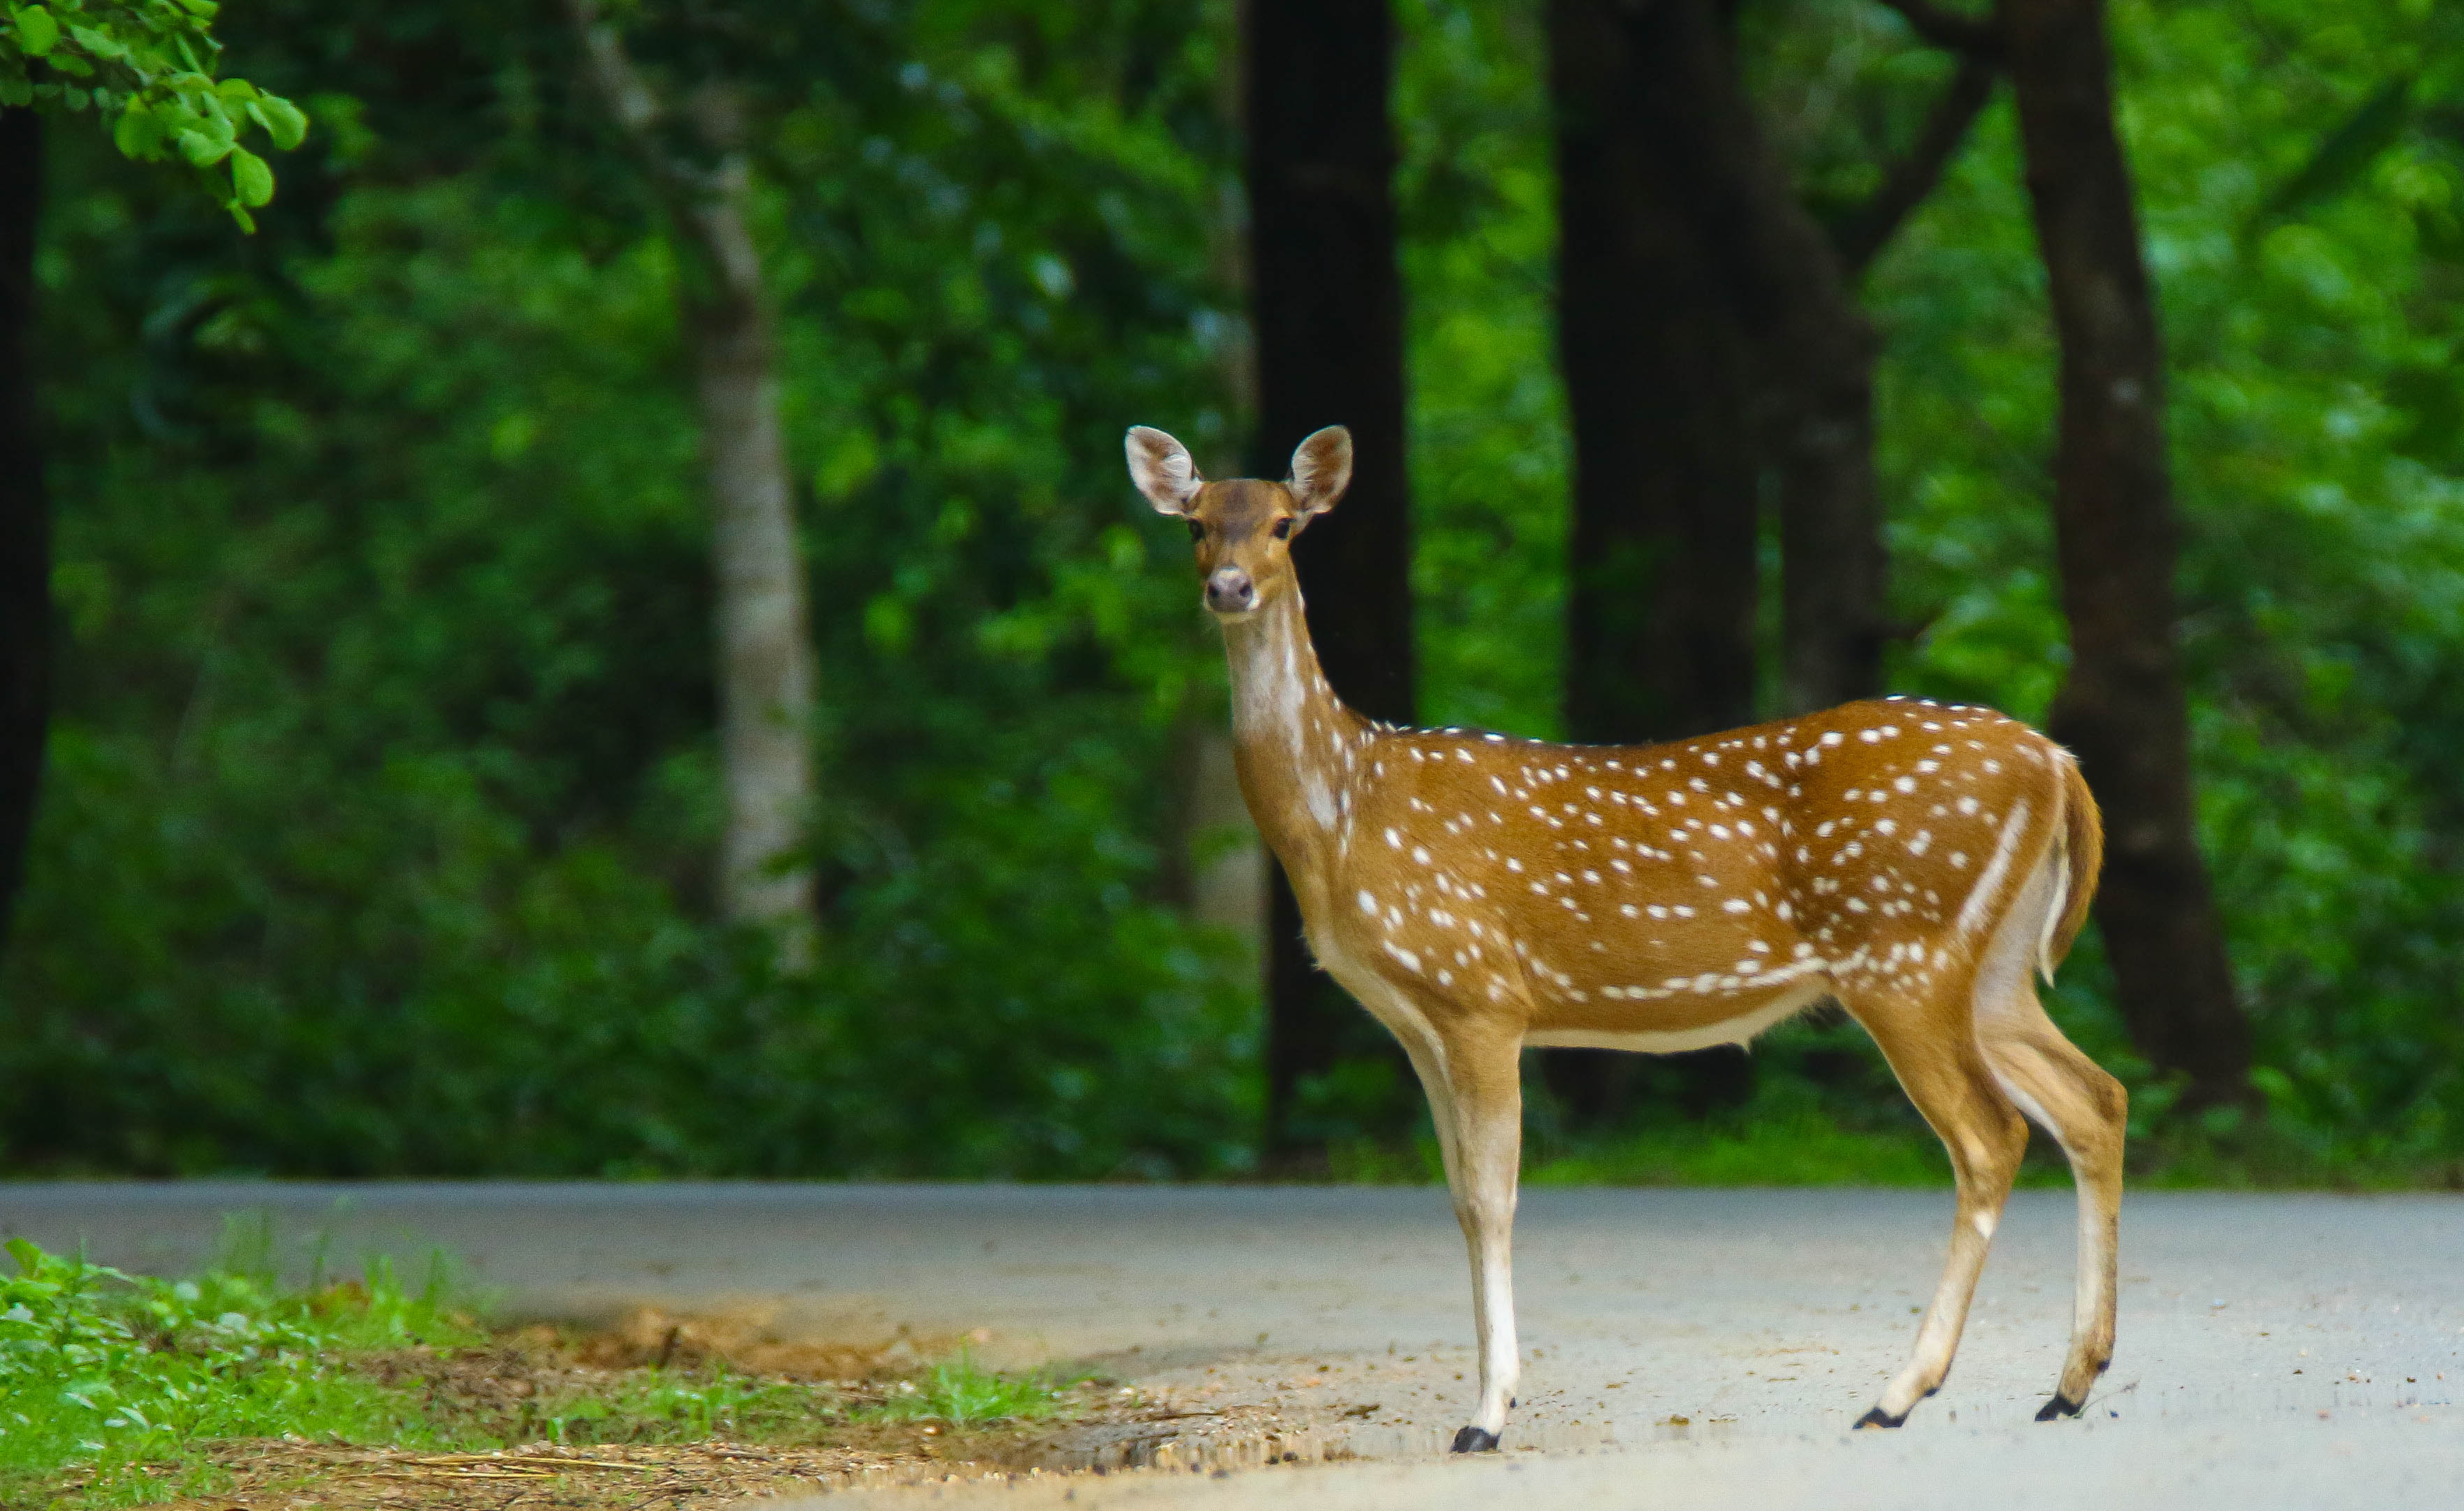Deer: (1111, 403, 2144, 1458)
